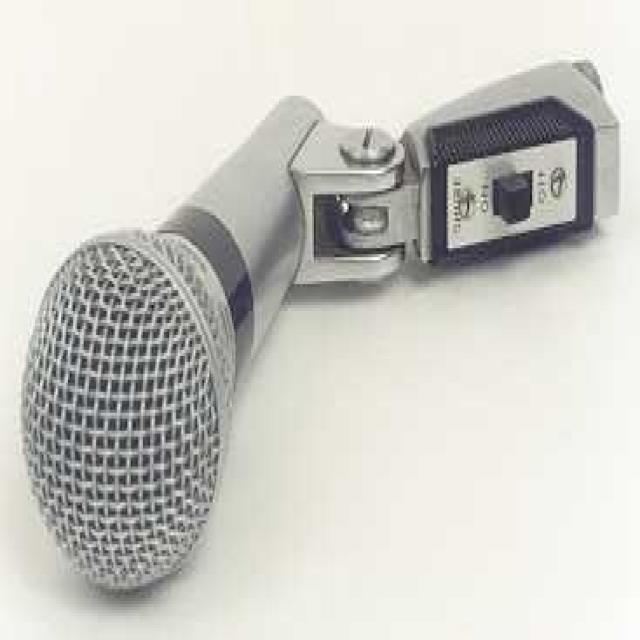microphone: (22, 56, 318, 588)
